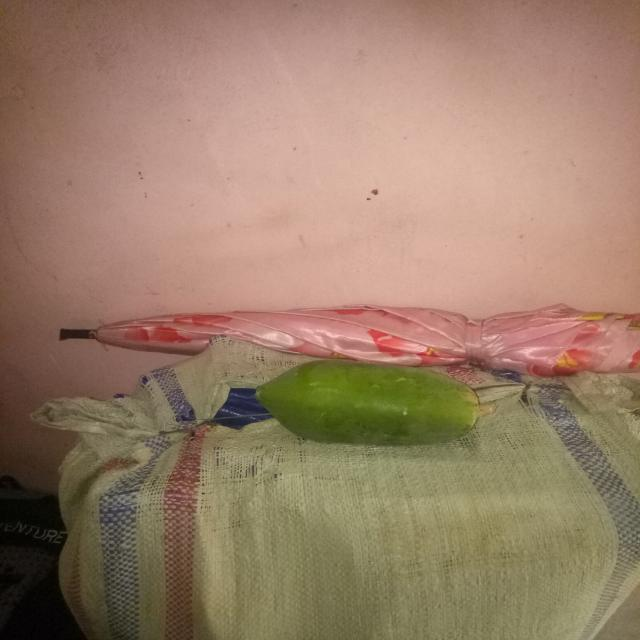Pepaya unrippen: (255, 359, 489, 449)
